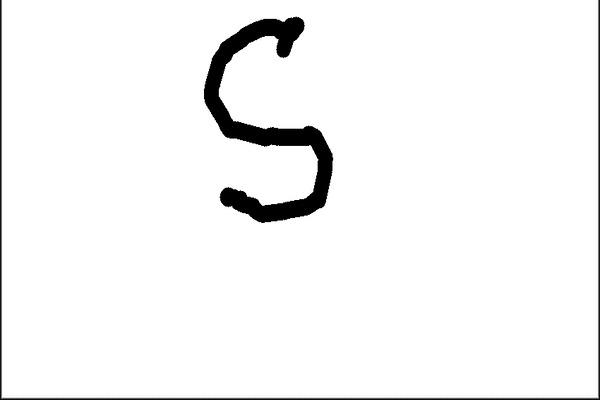S: (197, 8, 338, 227)
